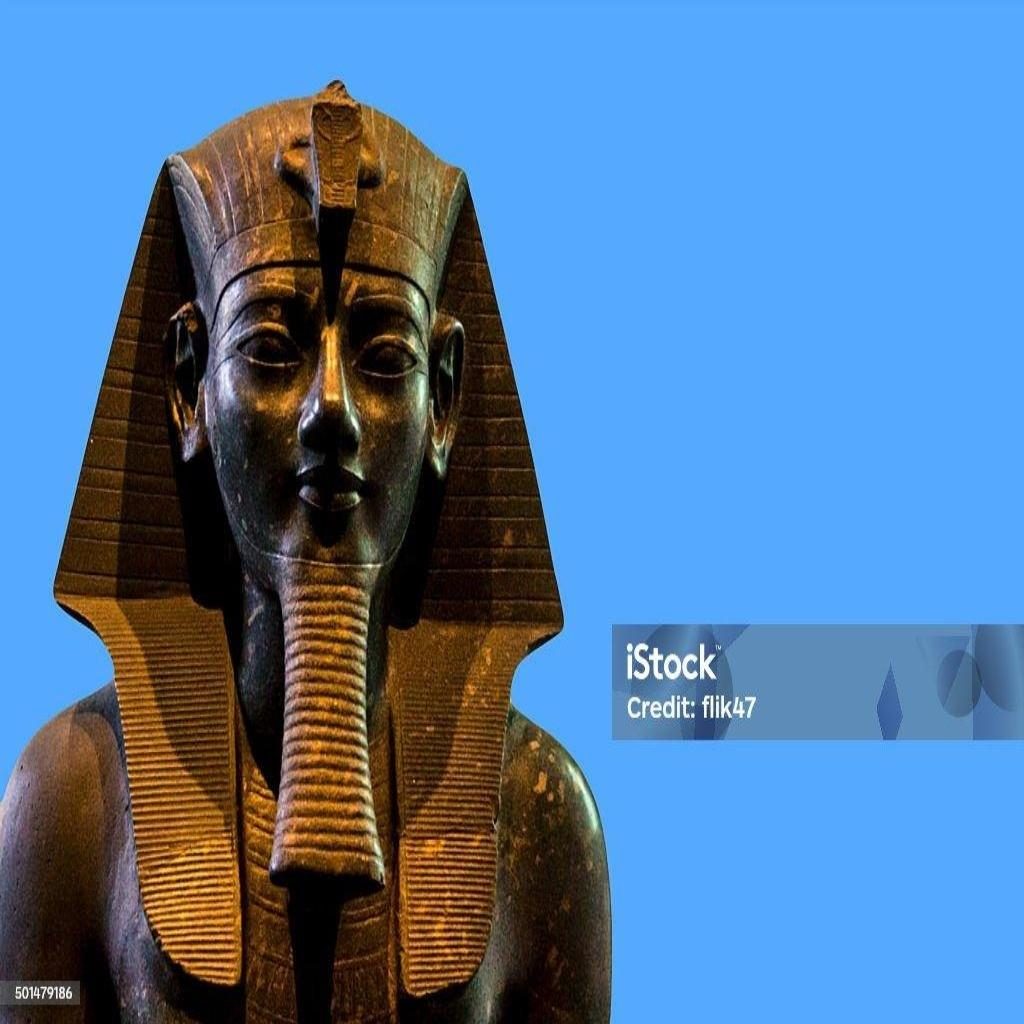Amenhotep III: (2, 78, 616, 1020)
